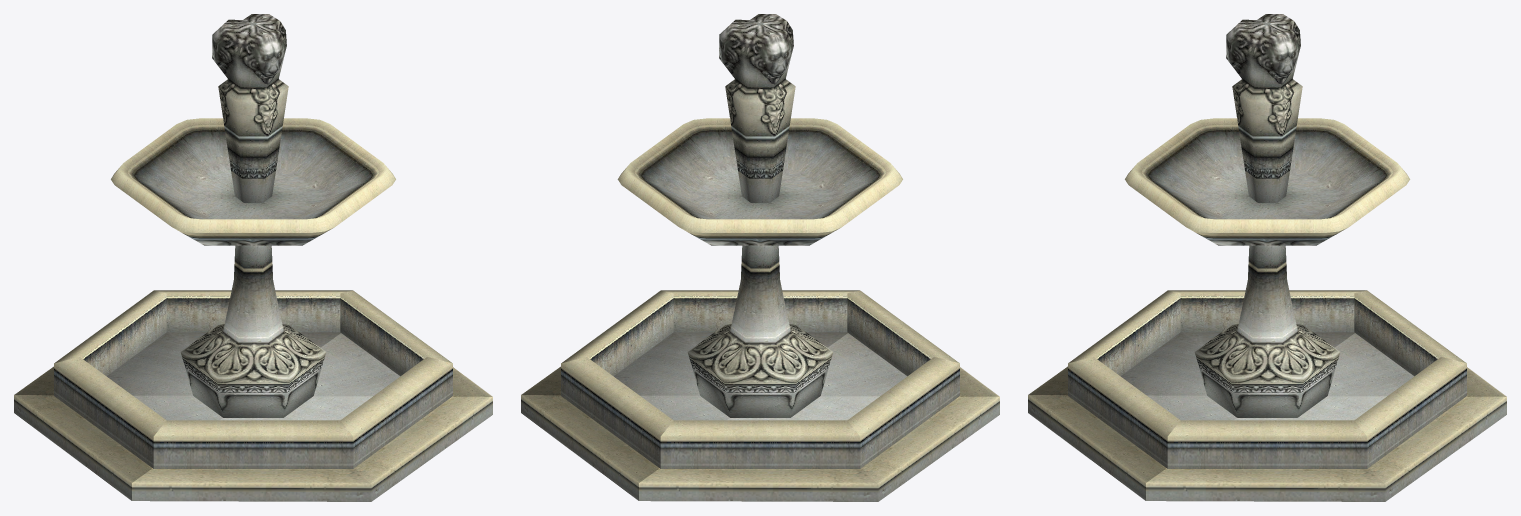
3 views of the same model, side by side, from view 1: azimuth 30°, elevation 25°; view 2: azimuth 150°, elevation 25°; view 3: azimuth 270°, elevation 25° (orthographic).
Parts seen in each view (by area): view 1: rd_fo1; view 2: rd_fo1; view 3: rd_fo1.
Part boxes in pixels (left/top/right/bottom): rd_fo1: left=14, top=14, right=492, bottom=501; rd_fo1: left=521, top=14, right=999, bottom=501; rd_fo1: left=1028, top=14, right=1506, bottom=501.
Bounding box in the file's own units: 5.68 × 5.87 × 6.52.
Materials: 2 (2 with a texture image).
